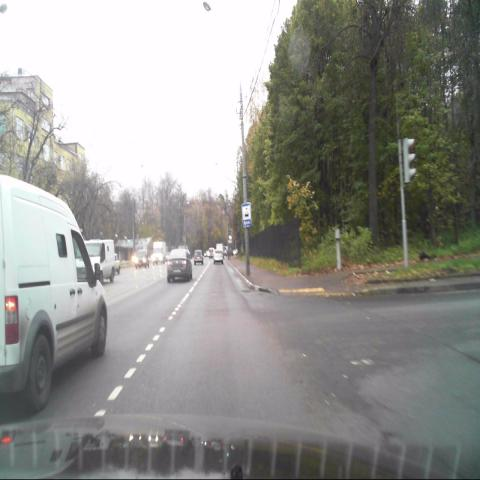7_5: (242, 202, 252, 227)
